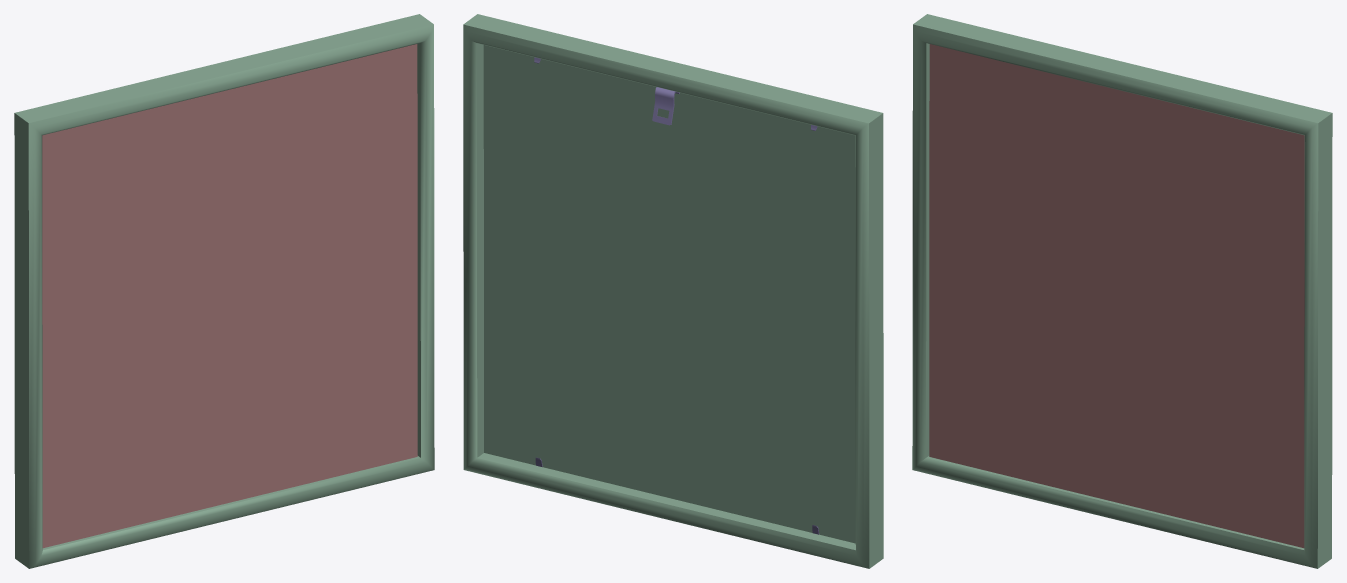
The model's file is PictureStand.fbx.
3 renders of one model, left to right at view 1: azimuth 30°, elevation 25°; view 2: azimuth 150°, elevation 25°; view 3: azimuth 330°, elevation 25°, orthographic.
Visible parts, largest first — view 1: PictureStand; view 2: PictureStand; view 3: PictureStand.
Part boxes in pixels (bbox=[...]): PictureStand: bbox=[14, 14, 434, 568]; PictureStand: bbox=[463, 14, 883, 568]; PictureStand: bbox=[912, 14, 1332, 568].
Bounding box in the file's own units: 84.32 × 88.54 × 7.78.
